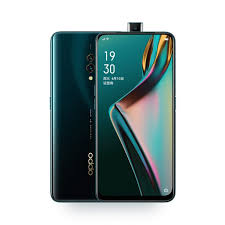oppo: (49, 25, 175, 202)
